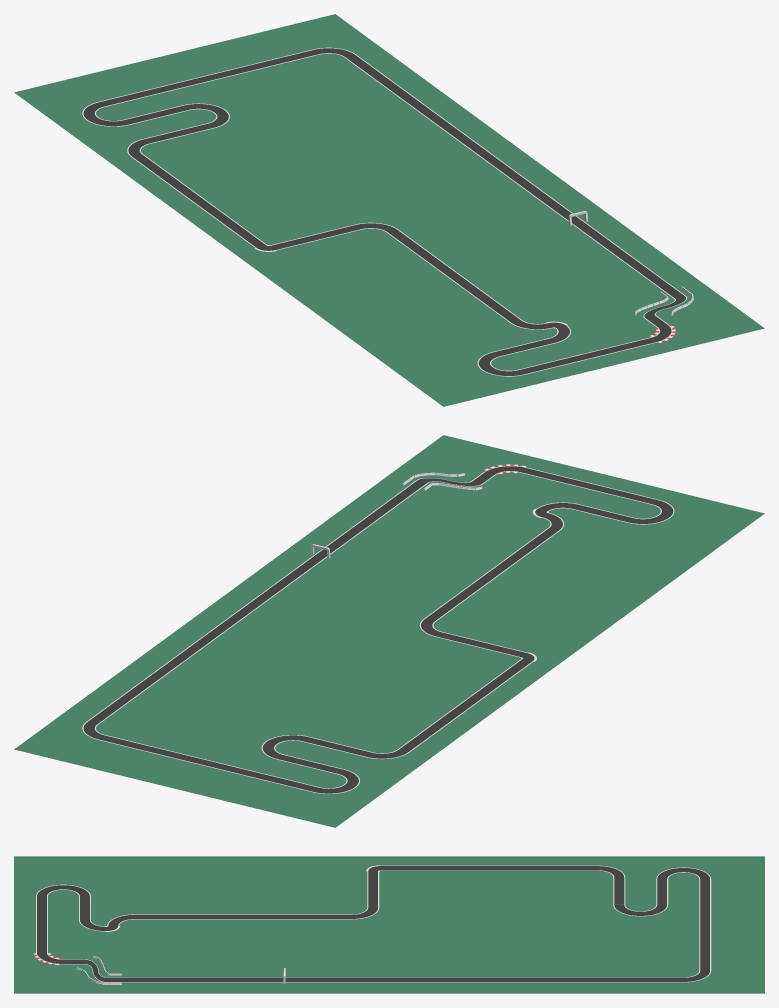
Rendered from track-2.glb.
3 views of the same model, one above another, from view 1: azimuth 30°, elevation 25°; view 2: azimuth 150°, elevation 25°; view 3: azimuth 270°, elevation 25° (orthographic). The views are drawn at different scales.
Visible parts, largest first — view 1: grass, roadStraight (×9); view 2: grass, roadStraight (×9); view 3: grass, roadStraight (×16).
Boxes of the visible parts, left/top/right/bottom form: grass: left=14, top=14, right=764, bottom=406; roadStraight (×9): left=97, top=49, right=687, bottom=375; grass: left=14, top=435, right=764, bottom=827; roadStraight (×9): left=86, top=467, right=658, bottom=792; grass: left=14, top=856, right=764, bottom=993; roadStraight (×16): left=34, top=865, right=712, bottom=982.
Size of the model in its own units: 90.6 by 2.67 by 210.
